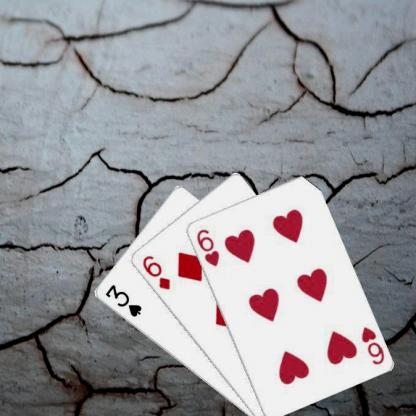3S: (102, 282, 142, 318)
6D: (139, 252, 171, 291)
6H: (194, 226, 221, 268), (358, 324, 385, 366)
